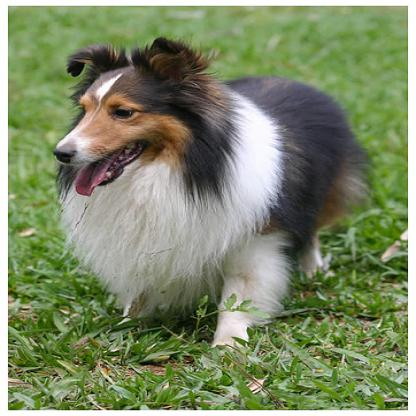Shetland_sheepdog: (37, 38, 378, 349)
